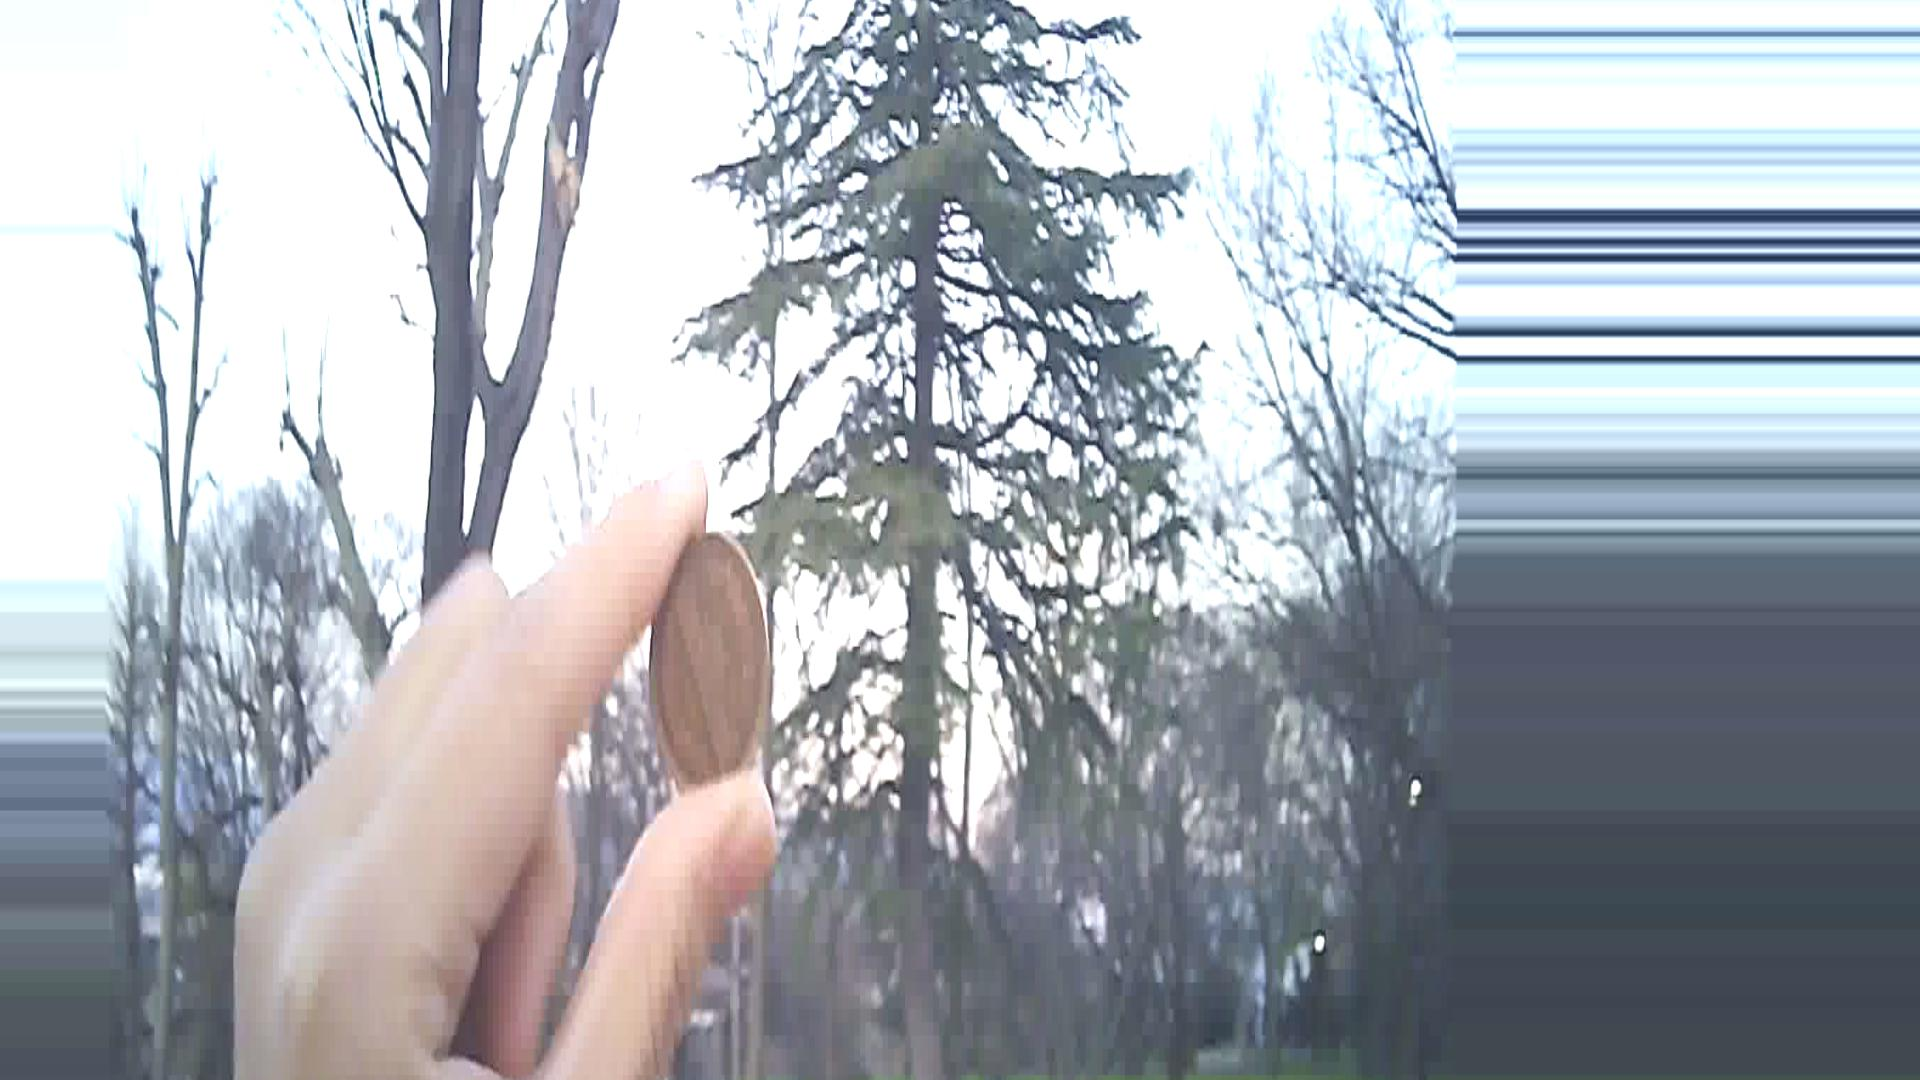10 Yen: (644, 539, 771, 799)
